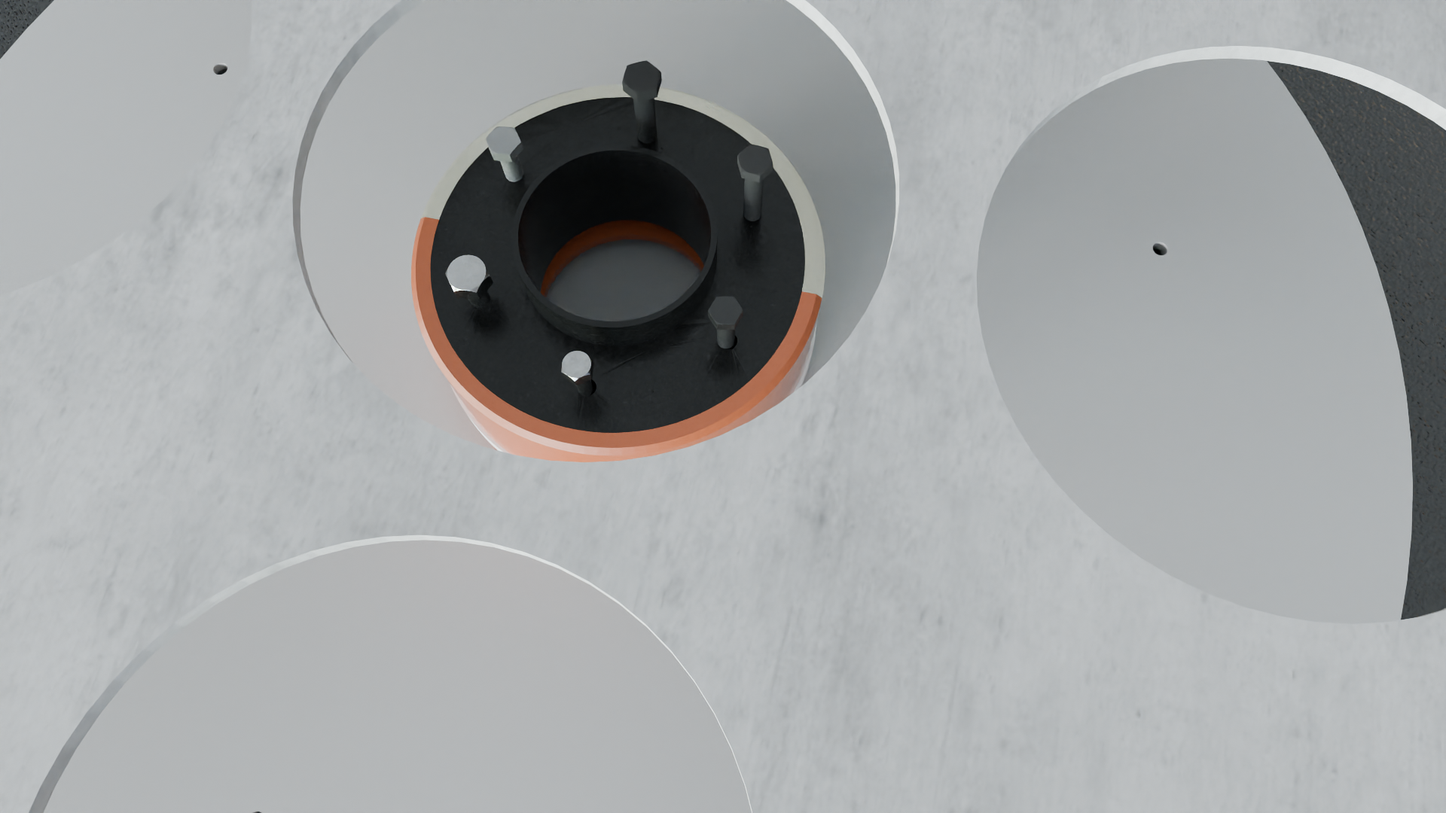bolt: (445, 255, 490, 293), (622, 60, 661, 94), (737, 144, 773, 176), (486, 126, 521, 155), (561, 350, 593, 381), (708, 297, 743, 325)
